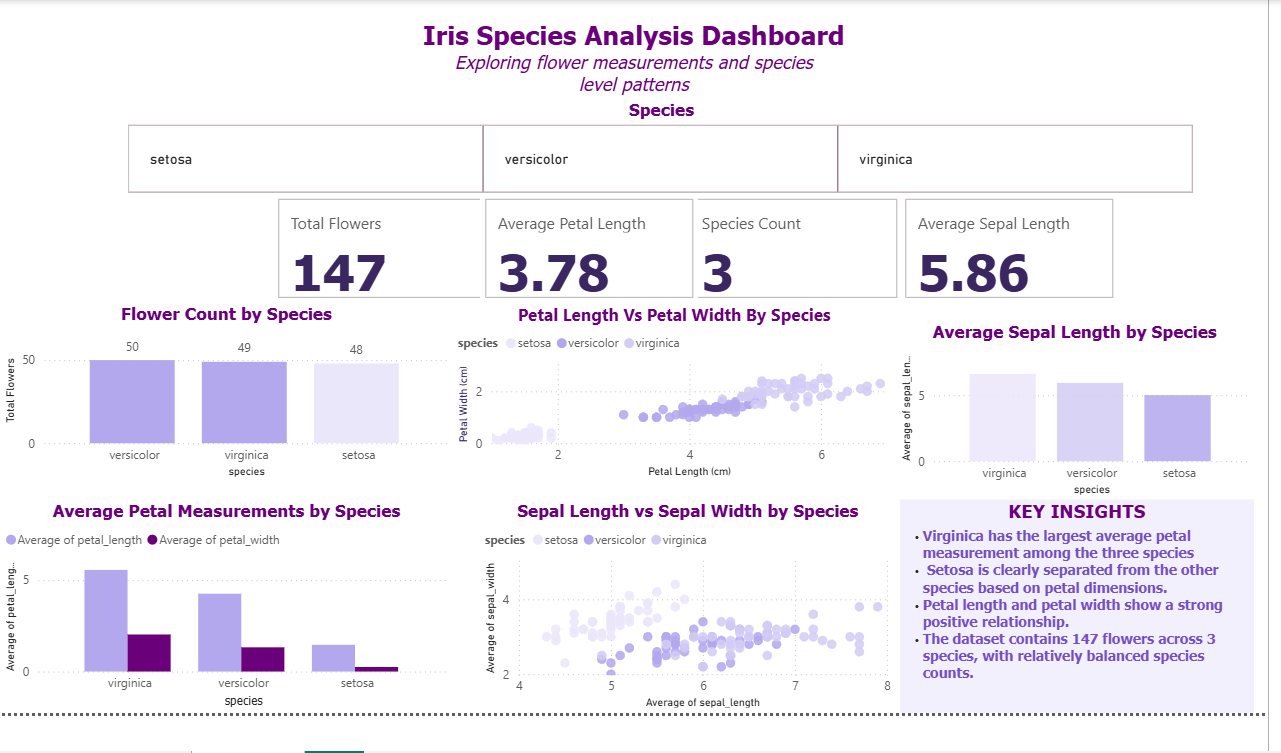

Layout of this report page (visuals, bound fields, positions):
{"tool":"powerbi","page":{"name":"Page 1","canvas":[1280,720],"ordinal":0},"visuals":[{"type":"cardVisual","fields":{"Data":["iris_cleaned.Total Flowers"]},"box":[391.5,111.2,186.1,119.8],"z":0},{"type":"cardVisual","fields":{"Data":["iris_cleaned.Species Count"]},"box":[780.8,111.2,190.4,119.8],"z":1000},{"type":"cardVisual","fields":{"Data":["iris_cleaned.Average Petal Length"]},"box":[577.6,111.2,203.2,113.4],"z":2000},{"type":"cardVisual","fields":{"Data":["iris_cleaned.Average Sepal Length"]},"box":[971.2,111.2,190.4,119.8],"z":3000},{"type":"clusteredColumnChart","title":"Flower Count by Species","fields":{"Category":["iris_cleaned.species"],"Y":["iris_cleaned.Total Flowers"]},"box":[868.3,498.3,398.3,201.7],"z":4000},{"type":"scatterChart","title":"Petal Length Vs Petal Width By Species","fields":{"X":["Sum(iris_cleaned.petal_length)"],"Y":["Sum(iris_cleaned.petal_width)"],"Series":["iris_cleaned.species"],"Category":["iris_cleaned.Index.1"]},"box":[371.7,218.3,451.7,141.7],"z":5000},{"type":"scatterChart","fields":{"X":["iris_cleaned.sepal_length"],"Series":["iris_cleaned.species"],"Category":["iris_cleaned.Index.1"],"Y":["Sum(iris_cleaned.sepal_width)"]},"box":[855,295,415,155],"z":6000},{"type":"clusteredColumnChart","title":"Average Petal Measurements by Species","fields":{"Category":["iris_cleaned.species"],"Y":["Avg(iris_cleaned.petal_length)","Avg(iris_cleaned.petal_width)"]},"box":[524.1,365.8,393.6,222.5],"z":7000},{"type":"clusteredColumnChart","title":"Average Sepal Length by Species","fields":{"Category":["iris_cleaned.species"],"Y":["Avg(iris_cleaned.sepal_length)"]},"box":[393.6,498.5,408.6,222.5],"z":8000},{"type":"advancedSlicerVisual","fields":{"Values":["iris_cleaned.species"]},"box":[30,130,336.7,570],"z":9000},{"type":"textbox","box":[239.6,12.8,830,98.4],"z":10000}]}

Visuals, with their boxes on the page's 1280x720 design canvas (x1, y1, x2, y2). These are canvas units, not pixel positions in the 1281x753 screenshot, which may show the page scaled, cropped or inside an application window:
cardVisual - iris_cleaned.Total Flowers: locate(392, 111, 578, 231)
cardVisual - iris_cleaned.Species Count: locate(781, 111, 971, 231)
cardVisual - iris_cleaned.Average Petal Length: locate(578, 111, 781, 225)
cardVisual - iris_cleaned.Average Sepal Length: locate(971, 111, 1162, 231)
"Flower Count by Species" clusteredColumnChart: locate(868, 498, 1267, 700)
"Petal Length Vs Petal Width By Species" scatterChart: locate(372, 218, 823, 360)
scatterChart - iris_cleaned.sepal_length x iris_cleaned.species: locate(855, 295, 1270, 450)
"Average Petal Measurements by Species" clusteredColumnChart: locate(524, 366, 918, 588)
"Average Sepal Length by Species" clusteredColumnChart: locate(394, 498, 802, 721)
advancedSlicerVisual - iris_cleaned.species: locate(30, 130, 367, 700)
textbox: locate(240, 13, 1070, 111)
